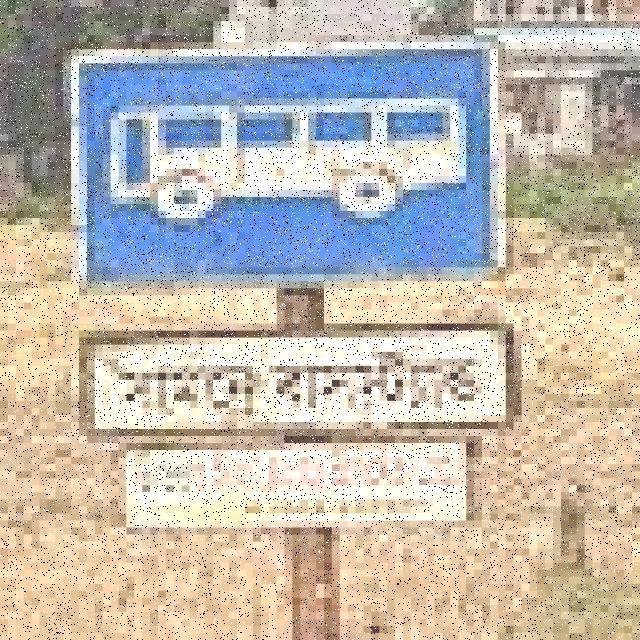Ahead-the-bus-station: (47, 40, 526, 540)
